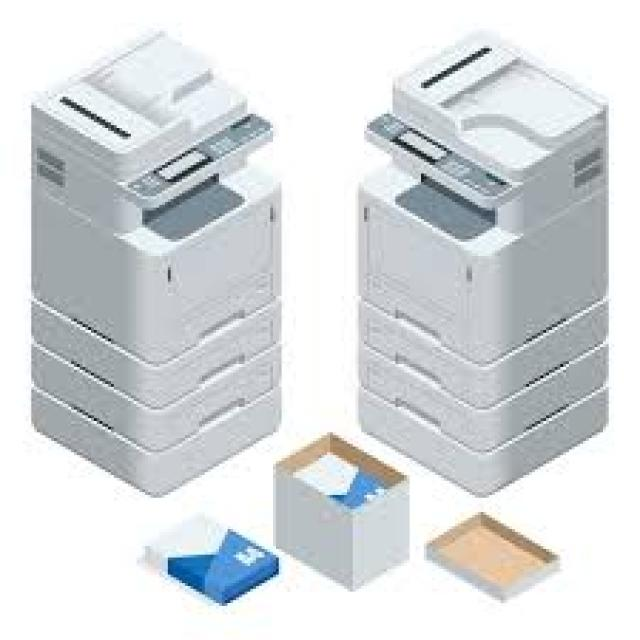printer: (352, 26, 612, 495), (25, 26, 282, 495)
